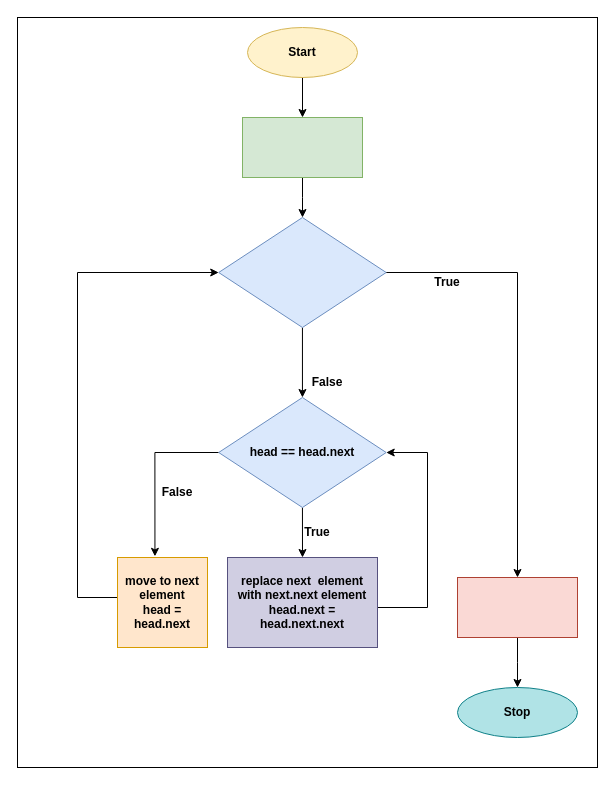
The diagram is 615 pixels wide and 785 high, and some of its shapes have lost their labels. The shapes that lost their labels are listed below. From the top down, each one's centre as x and y in pixels, then its label:
At point 302,147: "Store head in the variable x".
At point 302,272: "head is null and head.next is null".
At point 517,607: "return variable x".
